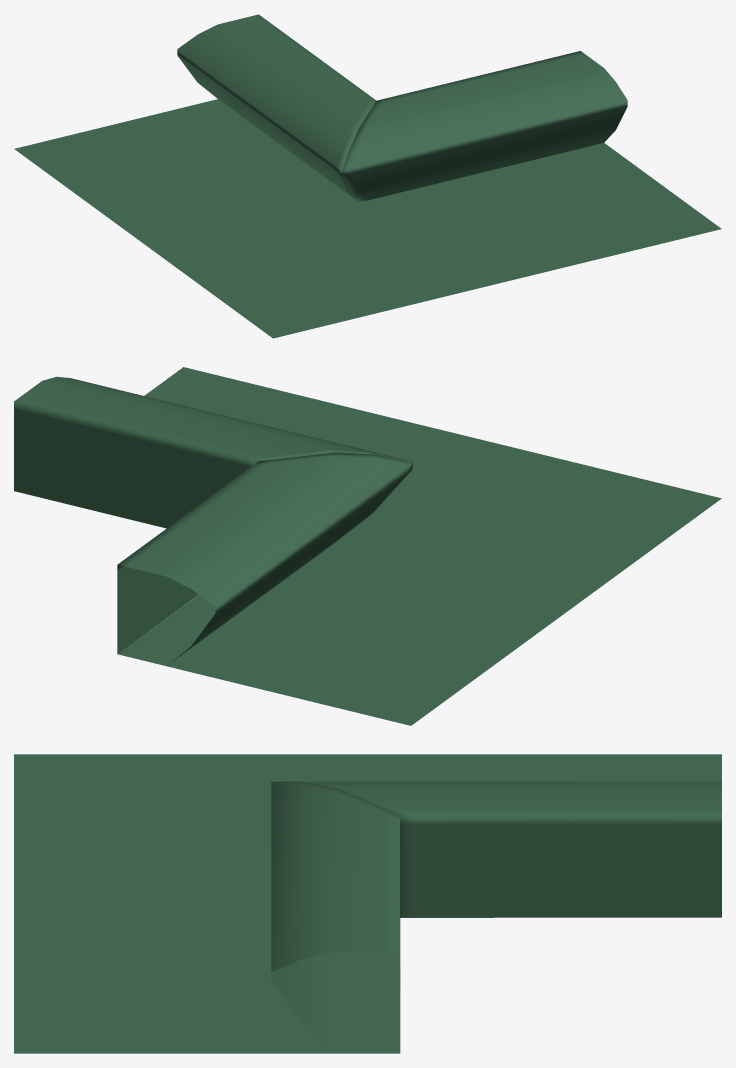
The model's file is table_cushion_convex_a.fbx.
3 renders of one model, top to bottom at view 1: azimuth 30°, elevation 25°; view 2: azimuth 150°, elevation 25°; view 3: azimuth 270°, elevation 25°, orthographic. The views are drawn at different scales.
Parts seen in each view (by area): view 1: lod0; view 2: lod0; view 3: lod0.
Boxes of the visible parts, left/top/right/bottom form: lod0: left=14, top=14, right=721, bottom=338; lod0: left=14, top=367, right=721, bottom=725; lod0: left=14, top=754, right=721, bottom=1053.
Size of the model in its own units: 11 by 1.76 by 11.
